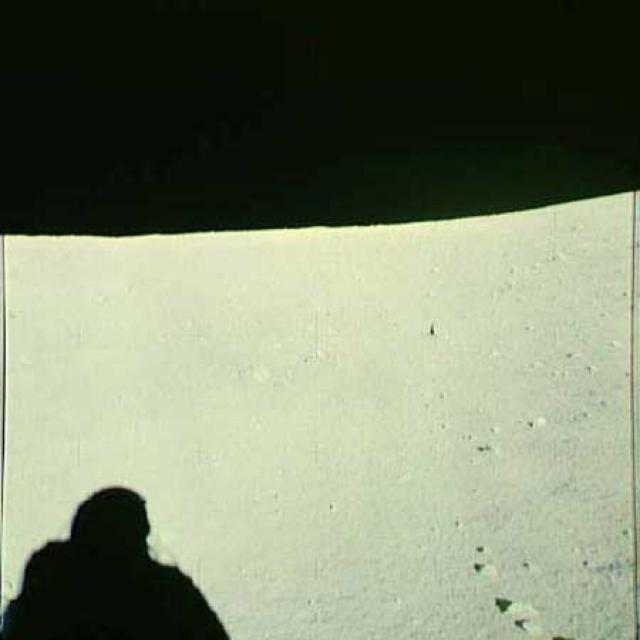rock: (452, 430, 517, 472), (406, 310, 459, 352), (462, 558, 511, 580), (493, 591, 534, 617), (464, 533, 502, 559), (519, 410, 552, 435), (499, 615, 550, 631)
